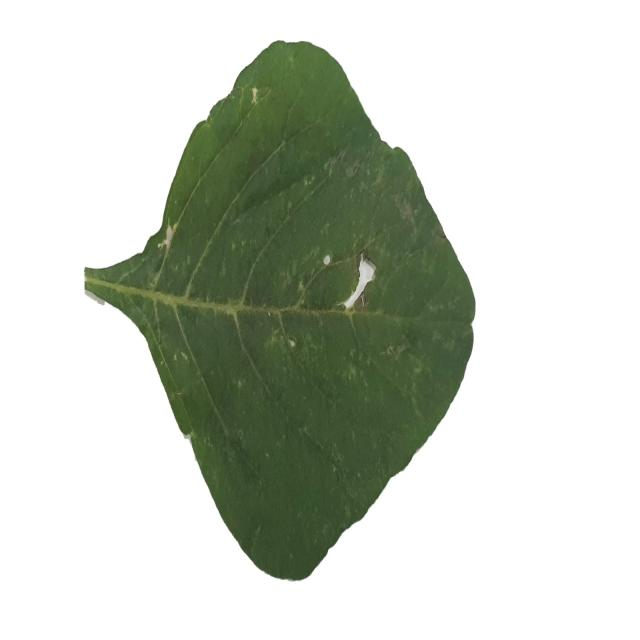Medicinal-Arive Dantu: (84, 37, 475, 581)
